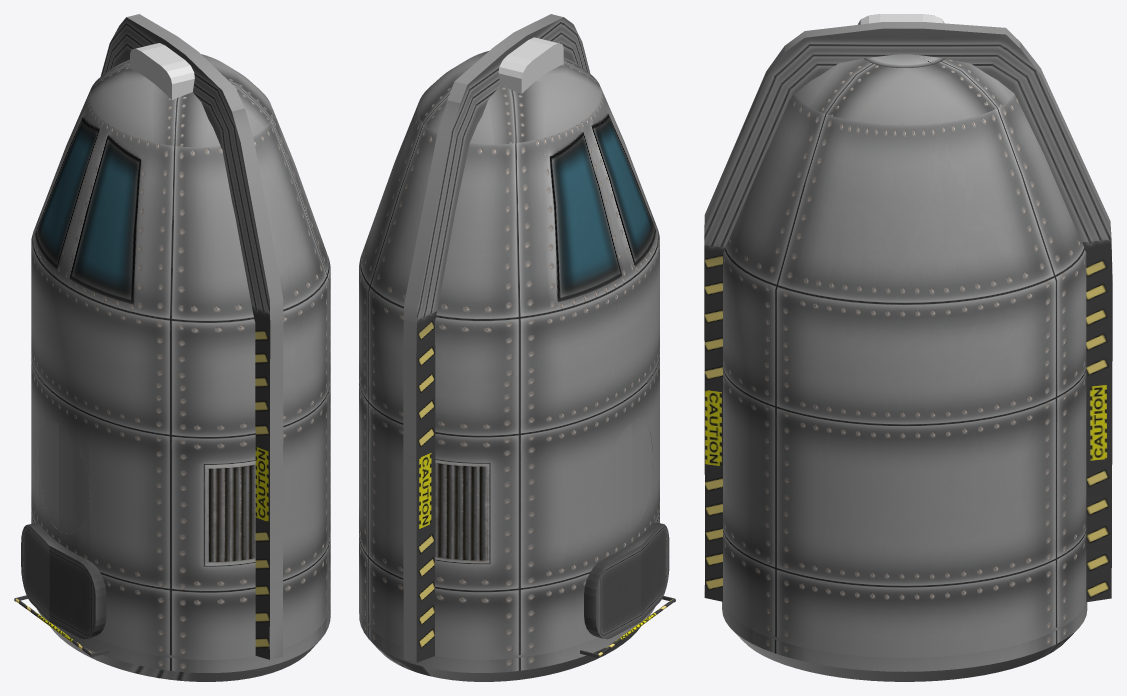
Rendered from spacebus8.fbx.
3 renders of one model, left to right at view 1: azimuth 30°, elevation 25°; view 2: azimuth 150°, elevation 25°; view 3: azimuth 270°, elevation 25°, orthographic. The views are drawn at different scales.
Visible parts, largest first — view 1: Plane, Plane.004, Plane.003, Plane.005, Plane.001, frontbox, frontdoorinverted; view 2: Plane, Plane.002, Plane.001, Plane.005, Plane.003, frontbox, frontdoorinverted; view 3: Plane, Plane.005, frontdoorinverted.
Part boxes in pixels (x1,y1,x2,y2): Plane: (14,14,330,672); Plane.004: (269,322,283,659); Plane.003: (59,424,90,533); Plane.005: (50,626,317,681); Plane.001: (38,420,58,530); frontbox: (130,44,194,99); frontdoorinverted: (136,43,193,77); Plane: (359,14,675,672); Plane.002: (403,320,416,662); Plane.001: (600,423,631,533); Plane.005: (369,626,640,681); Plane.003: (632,419,652,529); frontbox: (498,39,563,93); frontdoorinverted: (499,37,557,72); Plane: (704,22,1112,671); Plane.005: (730,628,1075,681); frontdoorinverted: (860,14,942,24).
Size of the model in its own units: 346 by 746 by 461.
5 materials, 5 textured.
